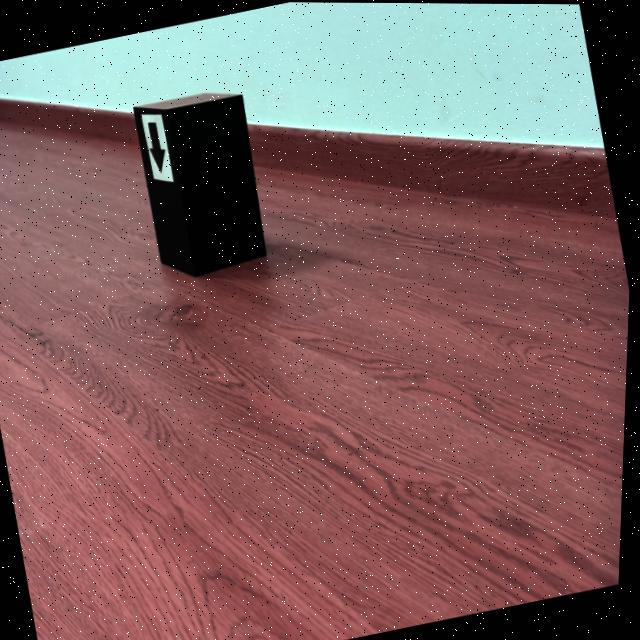DOWN: (149, 121, 167, 174)
